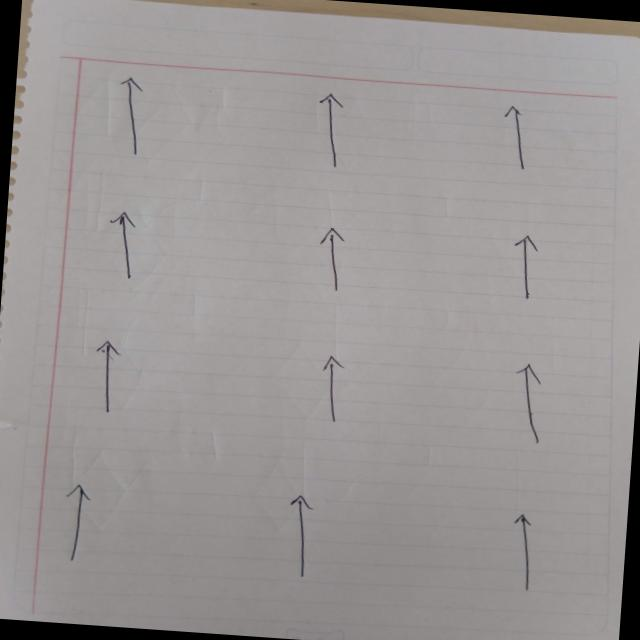arrow_line_up: (95, 207, 158, 304), (278, 486, 334, 594), (41, 484, 108, 570), (496, 234, 564, 316), (301, 88, 358, 180), (498, 510, 556, 600), (504, 364, 560, 452), (492, 104, 547, 184), (108, 73, 150, 167), (310, 224, 358, 302), (303, 349, 353, 422), (84, 337, 124, 417)
